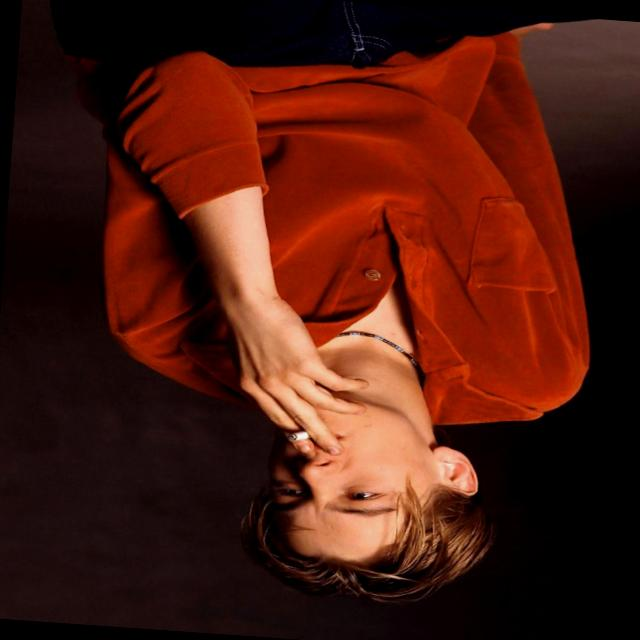smoke: (272, 420, 338, 452)
